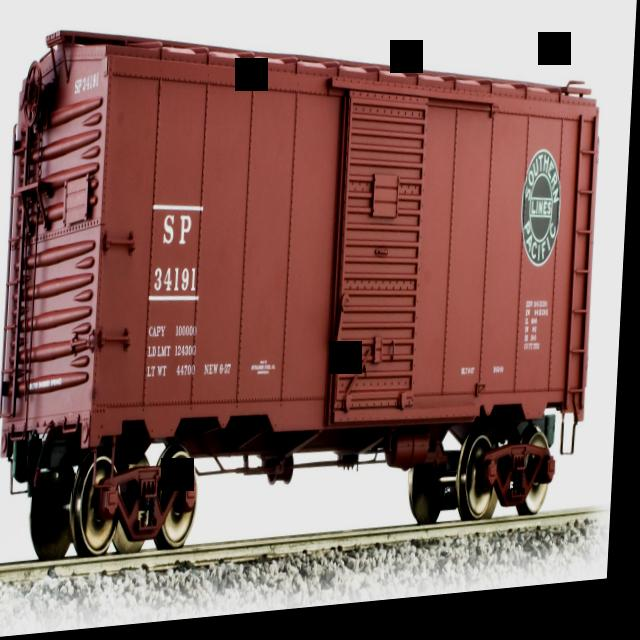boxcar: (0, 0, 627, 587)
